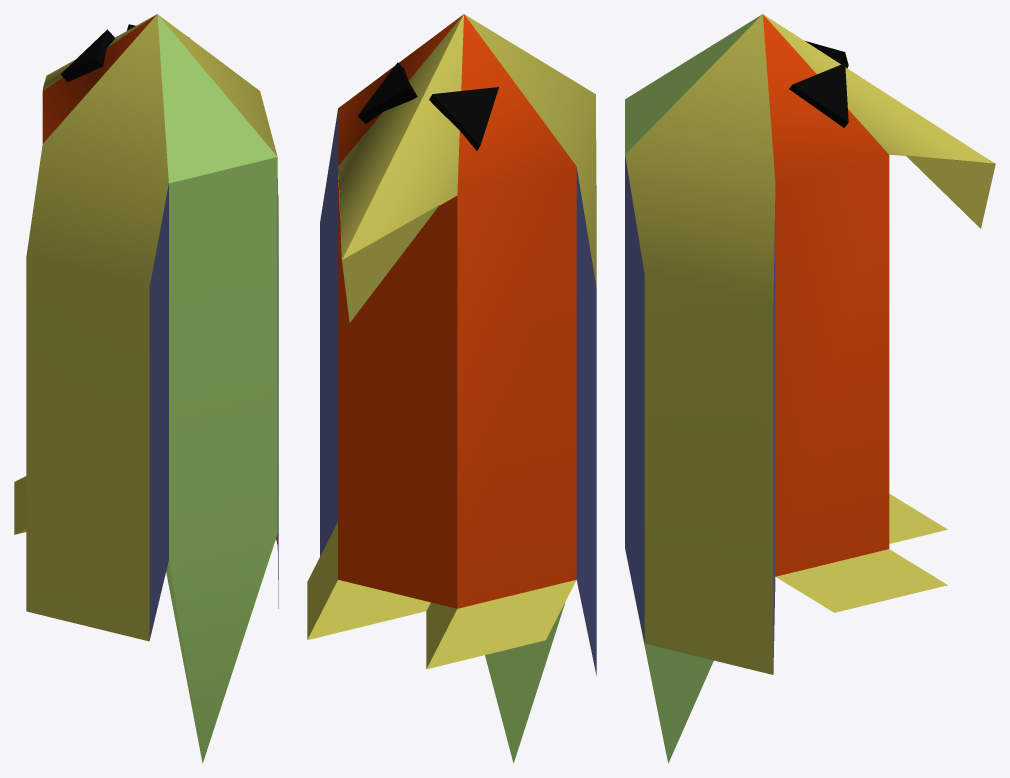
The model's file is parrot.fbx.
The picture shows the model from 3 angles, left to right: view 1: azimuth 30°, elevation 25°; view 2: azimuth 150°, elevation 25°; view 3: azimuth 270°, elevation 25°; orthographic projection. The views are drawn at different scales.
Parts seen in each view (by area): view 1: pCylinder3; view 2: pCylinder3; view 3: pCylinder3.
Boxes of the visible parts, left/top/right/bottom form: pCylinder3: left=14, top=14, right=278, bottom=762; pCylinder3: left=307, top=14, right=596, bottom=763; pCylinder3: left=625, top=14, right=995, bottom=763.
Bounding box in the file's own units: 2.32 × 6.3 × 2.82.
